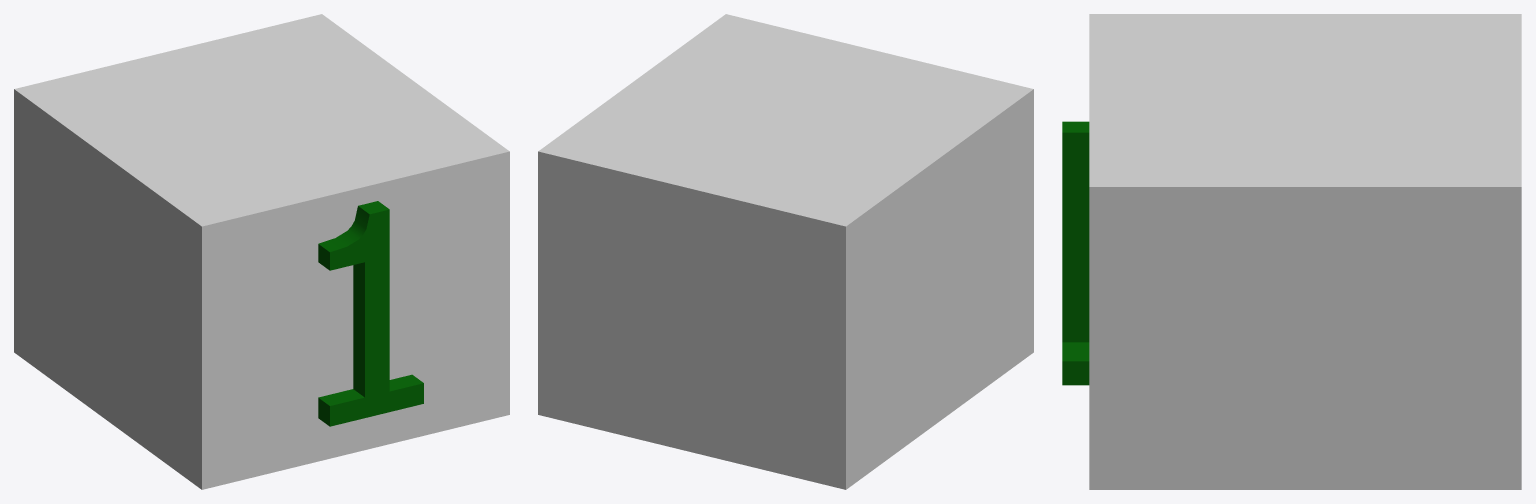
Rendered from SurveyAnswerCube1.fbx.
The picture shows the model from 3 angles, left to right: view 1: azimuth 30°, elevation 25°; view 2: azimuth 150°, elevation 25°; view 3: azimuth 270°, elevation 25°; orthographic projection. The views are drawn at different scales.
Parts seen in each view (by area): view 1: Model, G_1_1; view 2: Model; view 3: Model, G_1_1.
Boxes of the visible parts, left/top/right/bottom form: Model: left=14, top=14, right=509, bottom=489; G_1_1: left=318, top=201, right=423, bottom=426; Model: left=538, top=14, right=1033, bottom=489; Model: left=1089, top=14, right=1521, bottom=489; G_1_1: left=1062, top=121, right=1089, bottom=385.
Size of the model in its own units: 1.72 by 1.41 by 1.93.
